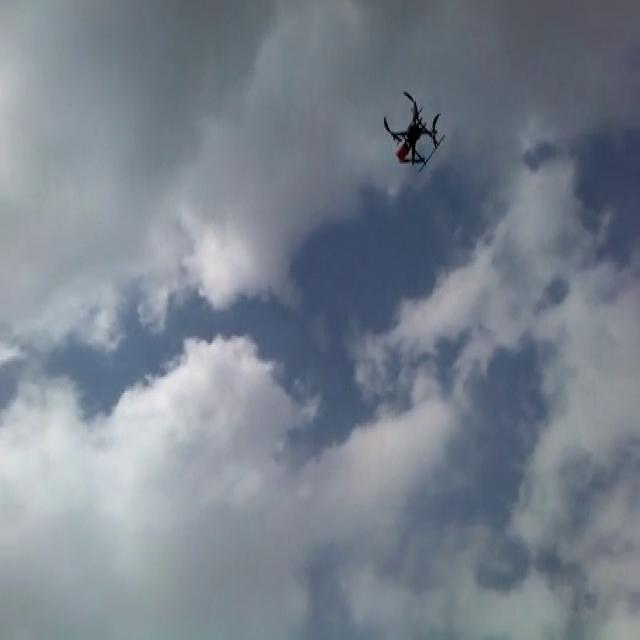drone: (381, 87, 446, 171)
